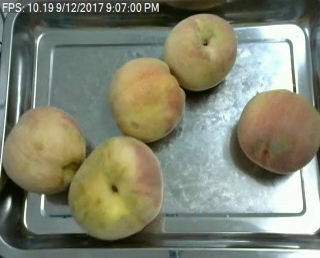Peach: (69, 135, 163, 241), (2, 107, 86, 195), (237, 88, 320, 175), (134, 8, 219, 92), (107, 57, 185, 141)
